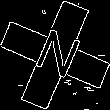N_SW: (26, 24, 84, 86)
